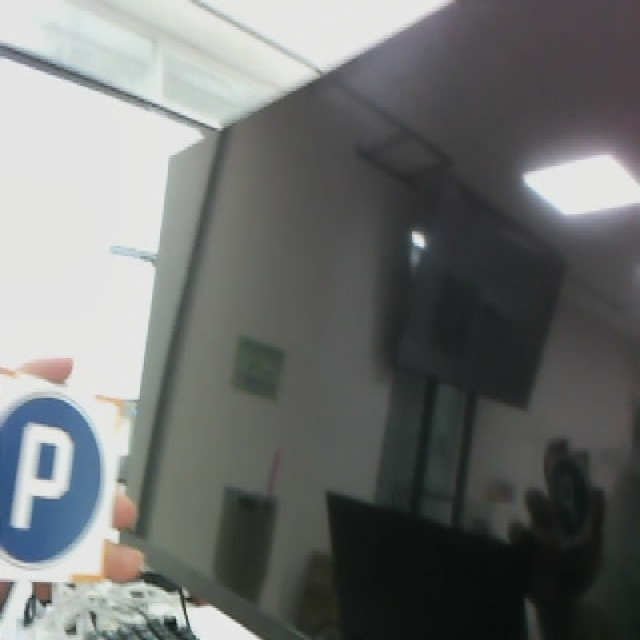parking: (1, 365, 128, 582)
